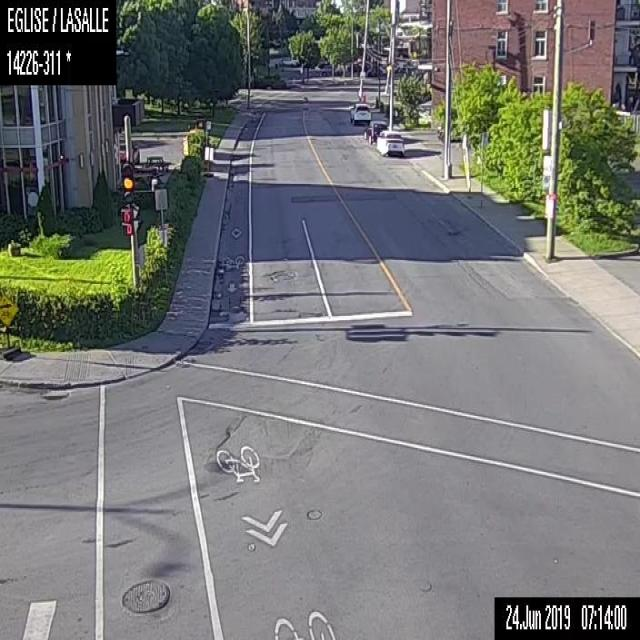vehicle: (376, 129, 406, 157), (363, 119, 387, 144), (349, 100, 371, 126), (114, 143, 140, 164)
